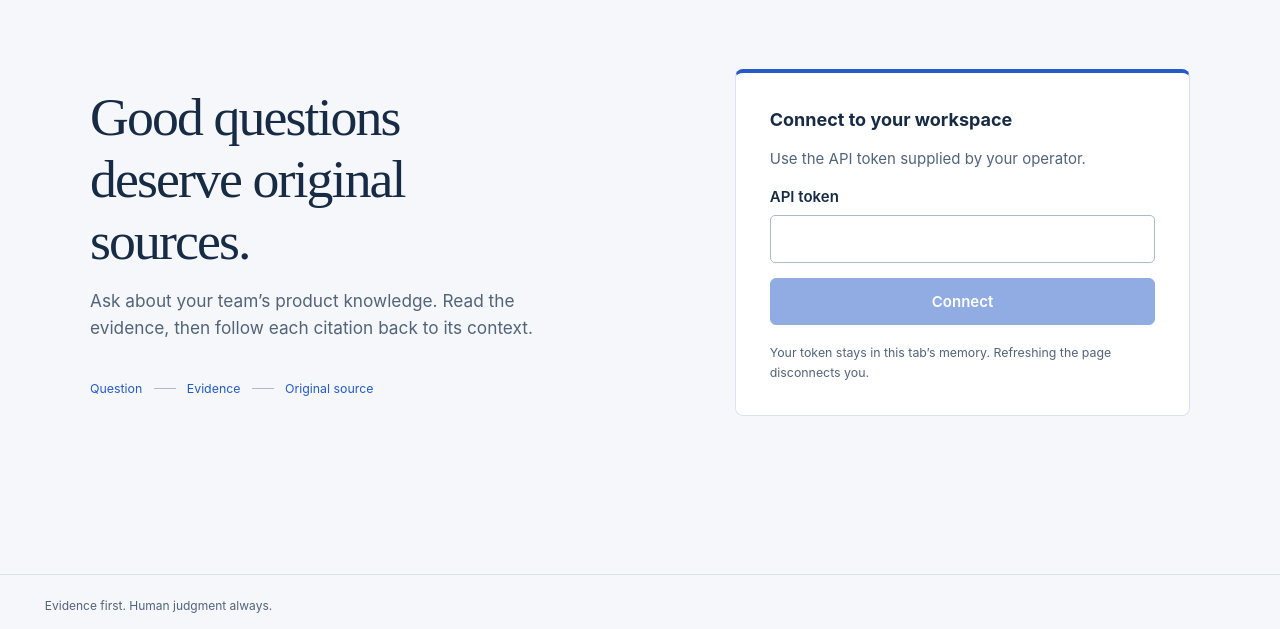
Test: limits reader controls and shows decision attribution
The image size is (1280, 629).
In the password field labelled "API token": [963, 239] box [770,215,1155,263], type "synthetic-token"
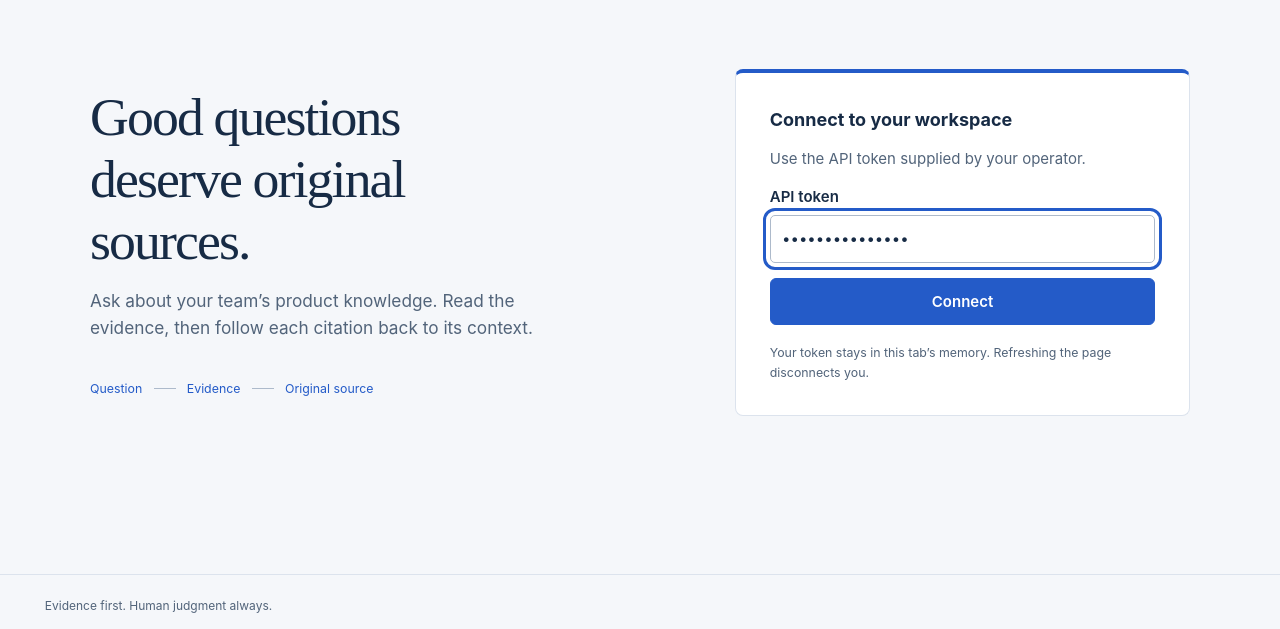
Click the button "Connect": [963, 301] box [770,278,1155,325]
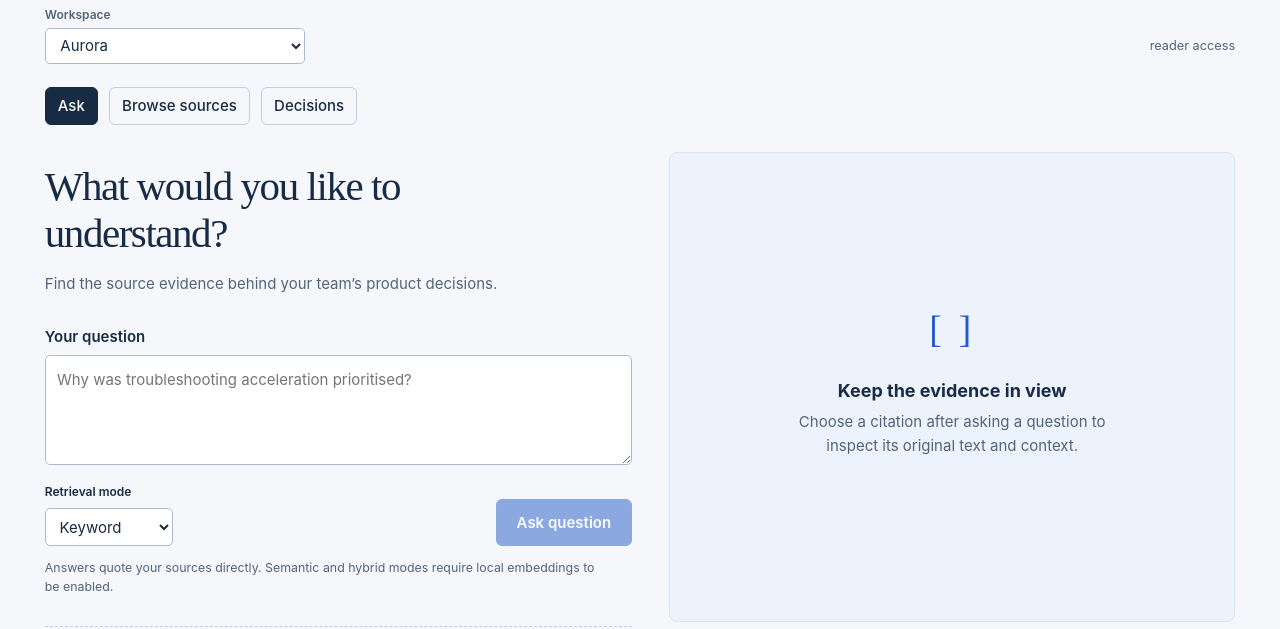
Check: the dropdown labelled "Workspace" is shown, box [45,28,305,64]
Click the button "Decisions": [309, 106] box [261,87,357,125]
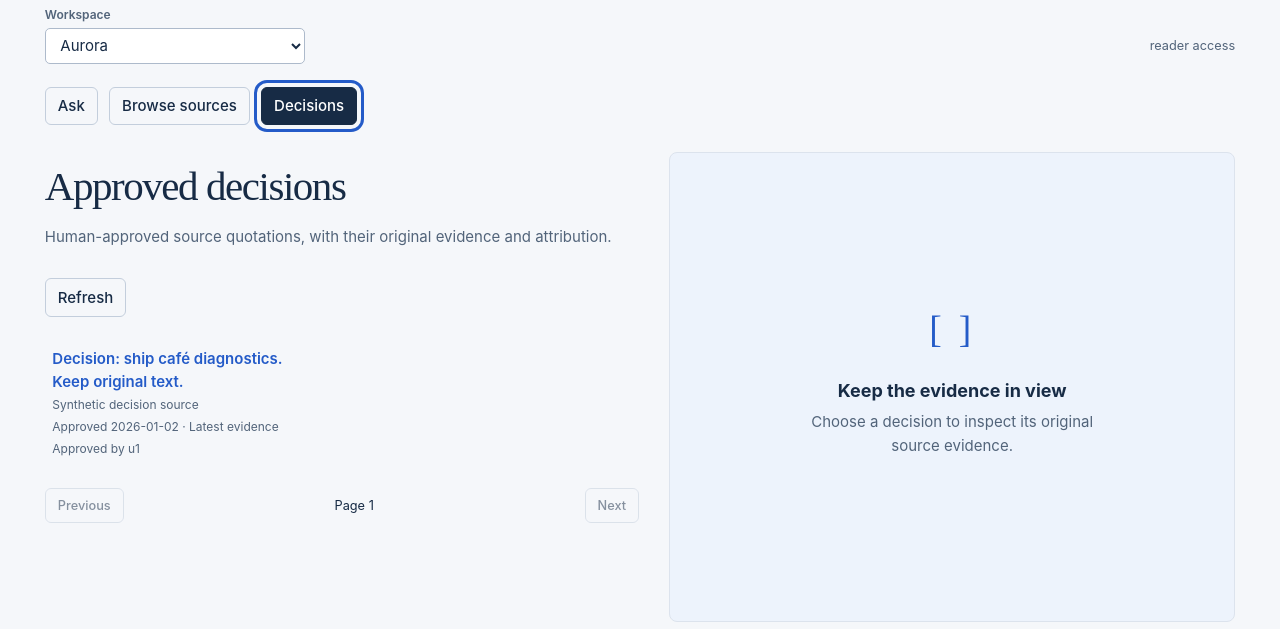
Click the button with aria-label "Open decision d1": [167, 358] box [45,332,639,473]
(page scrolled)
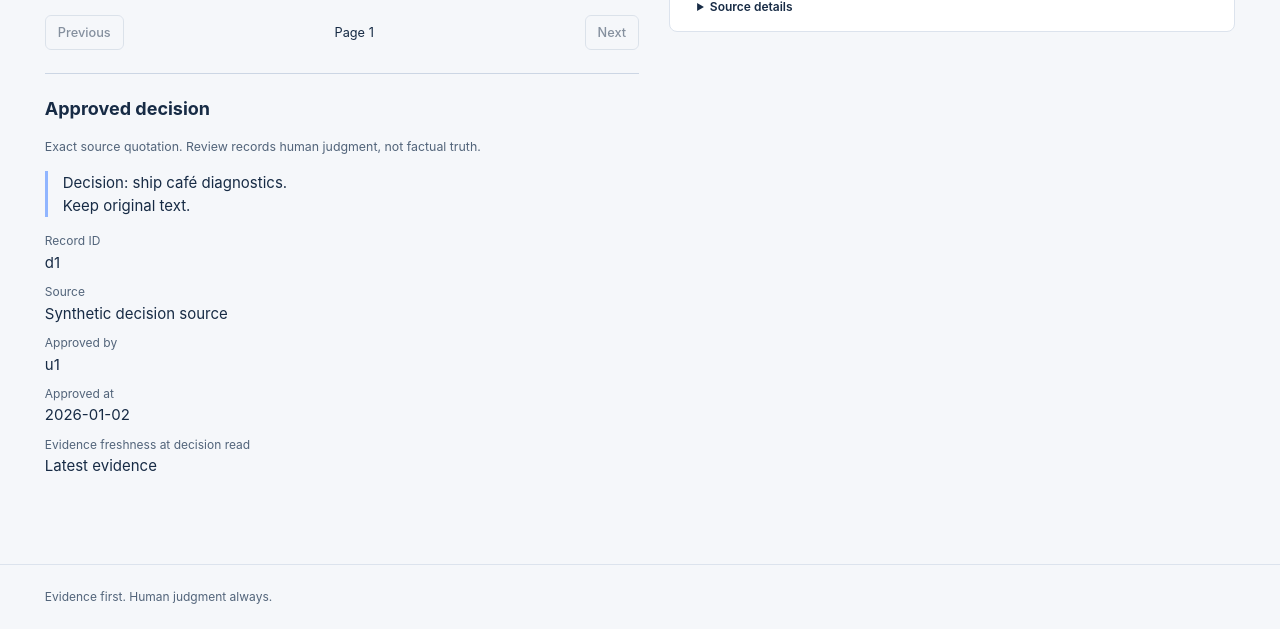
Check: the text "u1" is shown, box [45,354,60,374]
